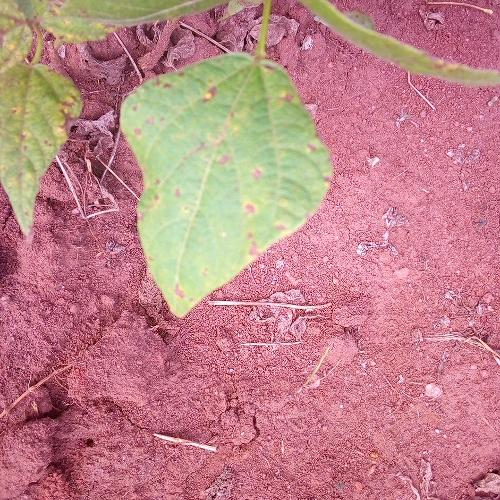hawar: (118, 56, 306, 138), (226, 151, 308, 262), (130, 142, 202, 233), (158, 262, 208, 328)
